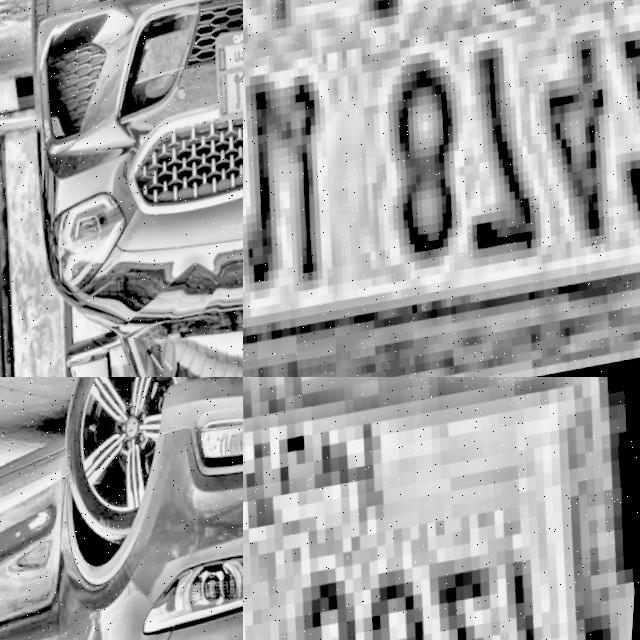license-plate: (243, 0, 640, 377), (243, 377, 640, 640), (206, 12, 243, 139)
